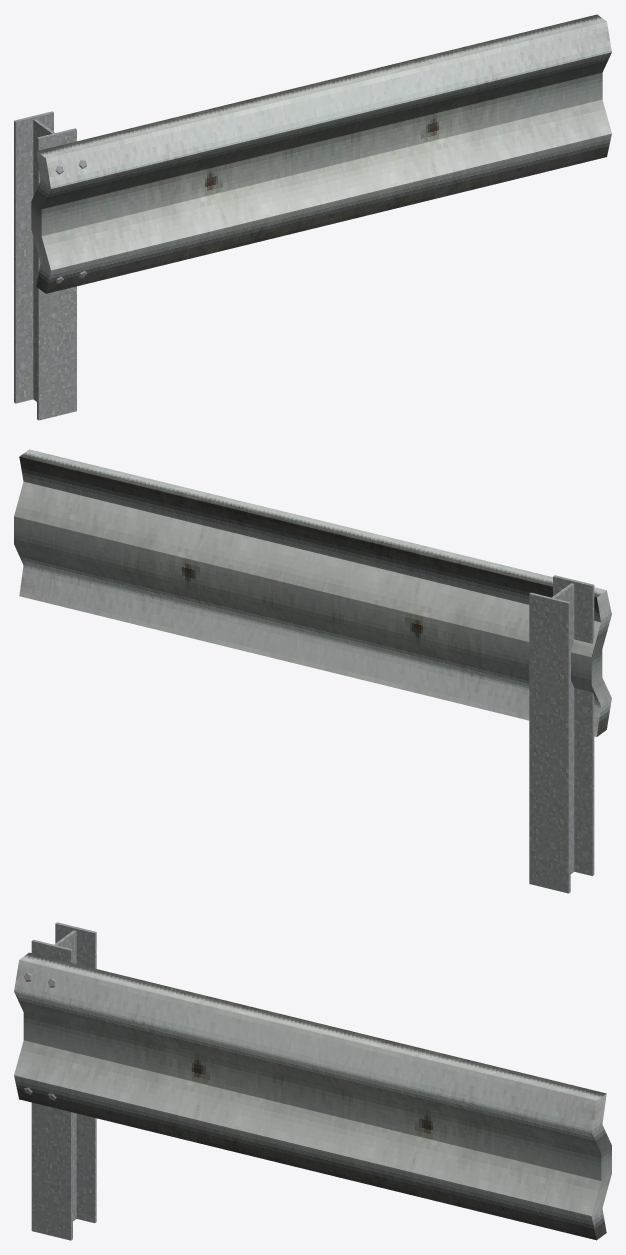
The model's file is classic64_guard_rail.glb.
3 renders of one model, top to bottom at view 1: azimuth 30°, elevation 25°; view 2: azimuth 150°, elevation 25°; view 3: azimuth 330°, elevation 25°, orthographic. The views are drawn at different scales.
Parts seen in each view (by area): view 1: Guardrail; view 2: Guardrail; view 3: Guardrail.
Part boxes in pixels (x1,y1,x2,y2): Guardrail: (14,14,611,420); Guardrail: (14,449,611,893); Guardrail: (14,922,611,1240).
Size of the model in its own units: 8.66 by 4.16 by 1.06.
Materials: 2 (2 with a texture image).
